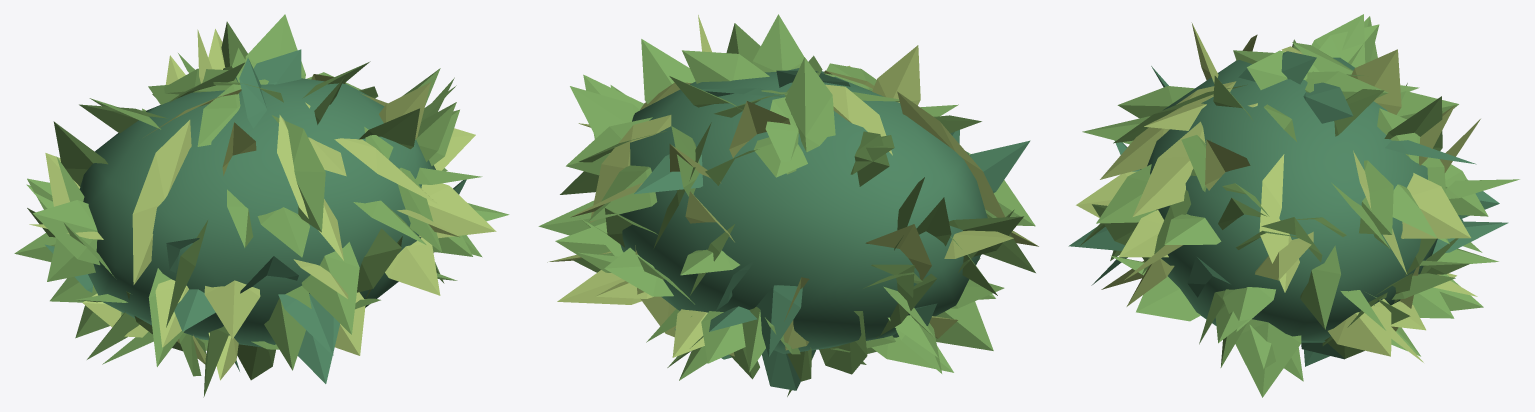
Rendered from Shrub_A.fbx.
3 views of the same model, side by side, from view 1: azimuth 30°, elevation 25°; view 2: azimuth 150°, elevation 25°; view 3: azimuth 270°, elevation 25° (orthographic). The views are drawn at different scales.
Parts seen in each view (by area): view 1: Shrub_A; view 2: Shrub_A; view 3: Shrub_A.
Boxes of the visible parts, x1,y1,x2,y2 form: Shrub_A: [14, 14, 509, 397]; Shrub_A: [538, 14, 1038, 396]; Shrub_A: [1068, 14, 1519, 397].
Size of the model in its own units: 150 by 106 by 130.
